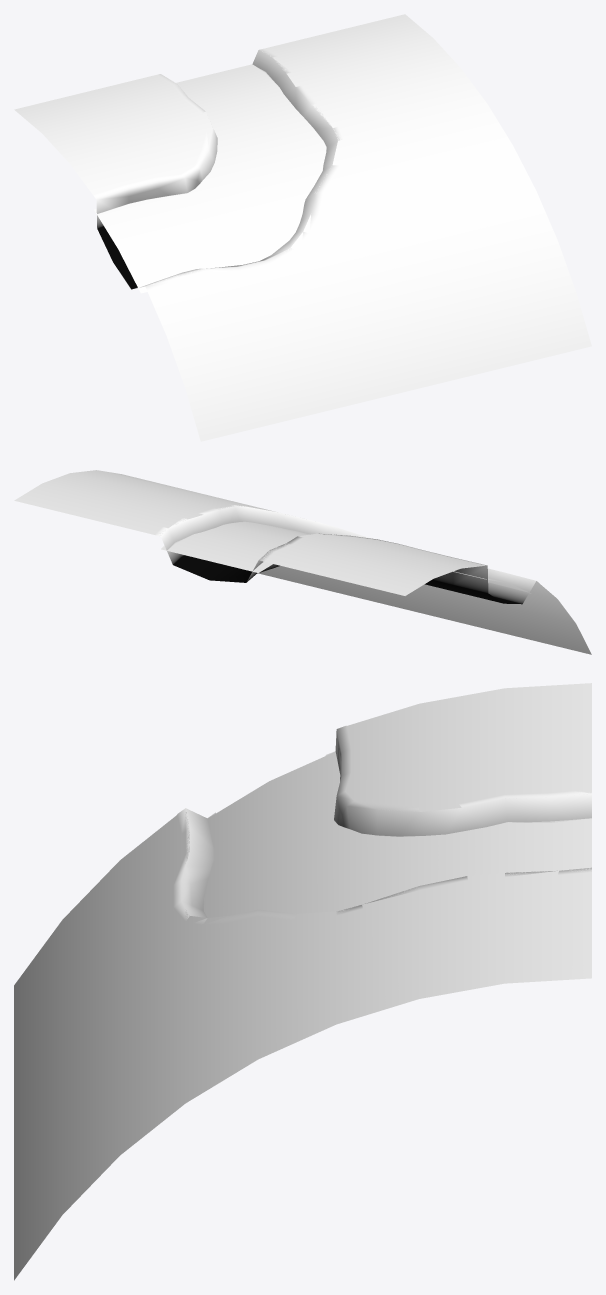
Rendered from grd_Ren_0.dae.
3 renders of one model, top to bottom at view 1: azimuth 30°, elevation 25°; view 2: azimuth 150°, elevation 25°; view 3: azimuth 270°, elevation 25°, orthographic. The views are drawn at different scales.
Parts seen in each view (by area): view 1: grd_Ren_0; view 2: grd_Ren_0; view 3: grd_Ren_0.
Part boxes in pixels (x1,y1,x2,y2): grd_Ren_0: (14,14,591,441); grd_Ren_0: (14,470,591,654); grd_Ren_0: (14,683,591,1280).
Bounding box in the file's own units: 512 × 244 × 423.
Materials: 4 (1 with a texture image).
